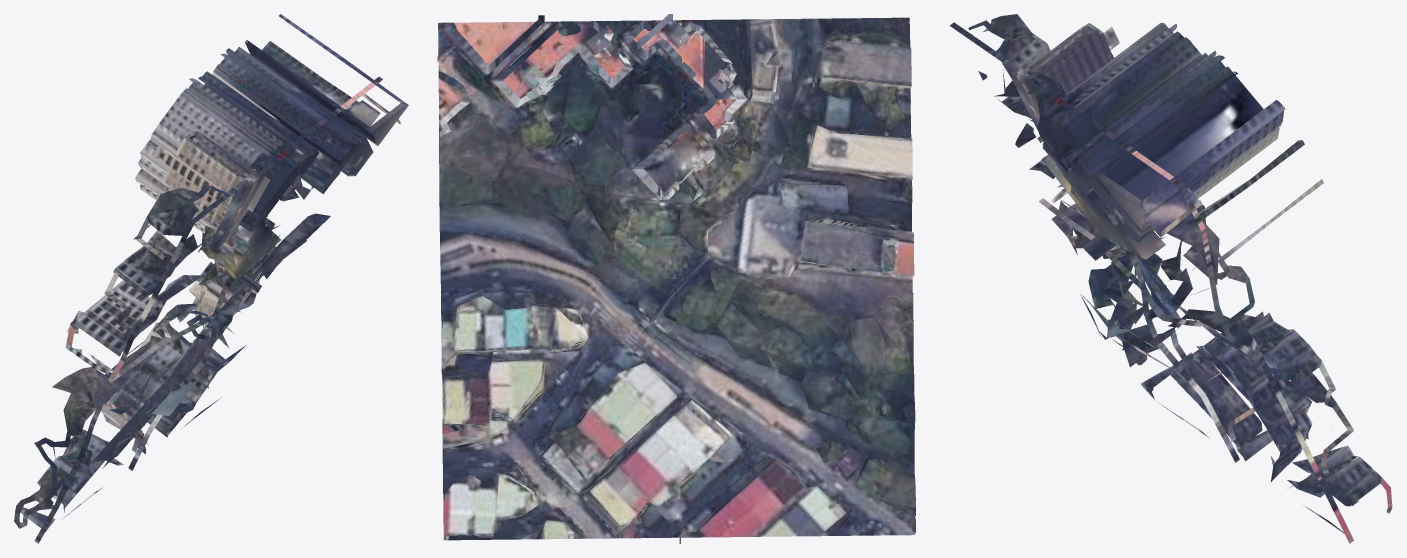
3 views of the same model, side by side, from view 1: azimuth 30°, elevation 25°; view 2: azimuth 150°, elevation 25°; view 3: azimuth 270°, elevation 25° (orthographic). The views are drawn at different scales.
Size of the model in its own units: 161 by 159 by 139.
2 materials, 2 textured.
